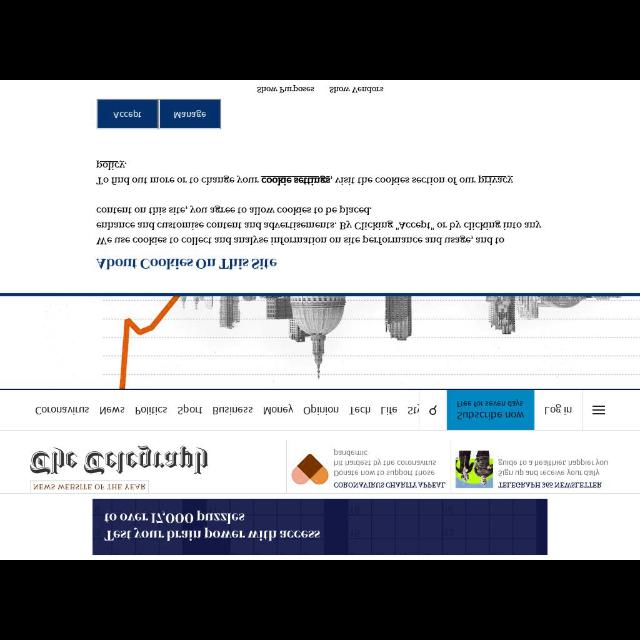icon: (590, 402, 608, 418), (428, 403, 440, 417)
iframe: (94, 499, 548, 555)
image: (99, 295, 639, 389), (29, 443, 210, 477), (455, 450, 493, 490), (290, 452, 330, 488)
link: (260, 176, 332, 187), (478, 173, 516, 184), (95, 160, 126, 170)
text: (94, 202, 544, 248), (93, 156, 521, 188), (94, 255, 278, 272), (334, 450, 438, 476), (498, 456, 610, 478), (30, 481, 146, 493), (334, 479, 446, 491), (498, 482, 602, 491), (458, 411, 526, 422), (34, 404, 92, 416), (254, 85, 316, 95), (456, 399, 524, 408), (303, 403, 342, 417), (212, 404, 254, 416), (328, 86, 387, 94), (171, 110, 207, 122), (544, 403, 574, 417), (262, 404, 296, 416), (112, 108, 144, 120), (348, 402, 372, 418), (134, 404, 168, 414), (98, 404, 125, 416), (178, 406, 204, 416), (381, 404, 399, 418)
textbutton: (448, 392, 534, 430), (98, 101, 158, 129), (161, 100, 221, 128)
toolbar: (1, 391, 638, 429)
